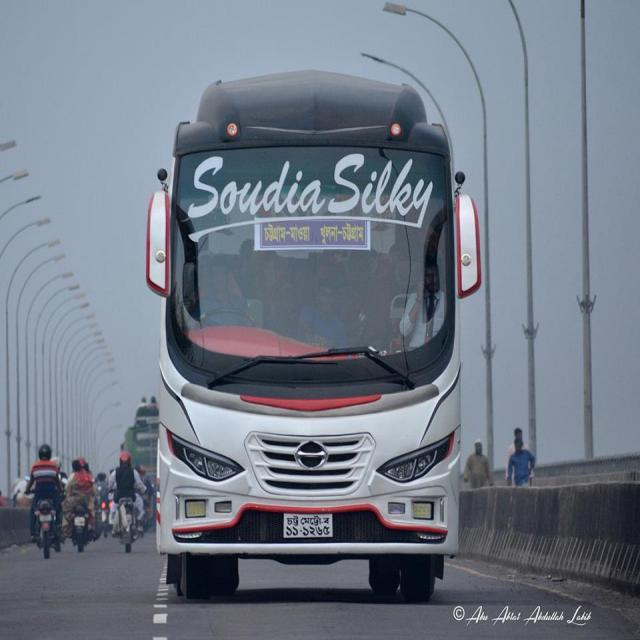bus: (146, 67, 483, 603)
